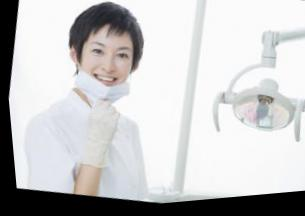WRONG: (70, 35, 136, 106)
